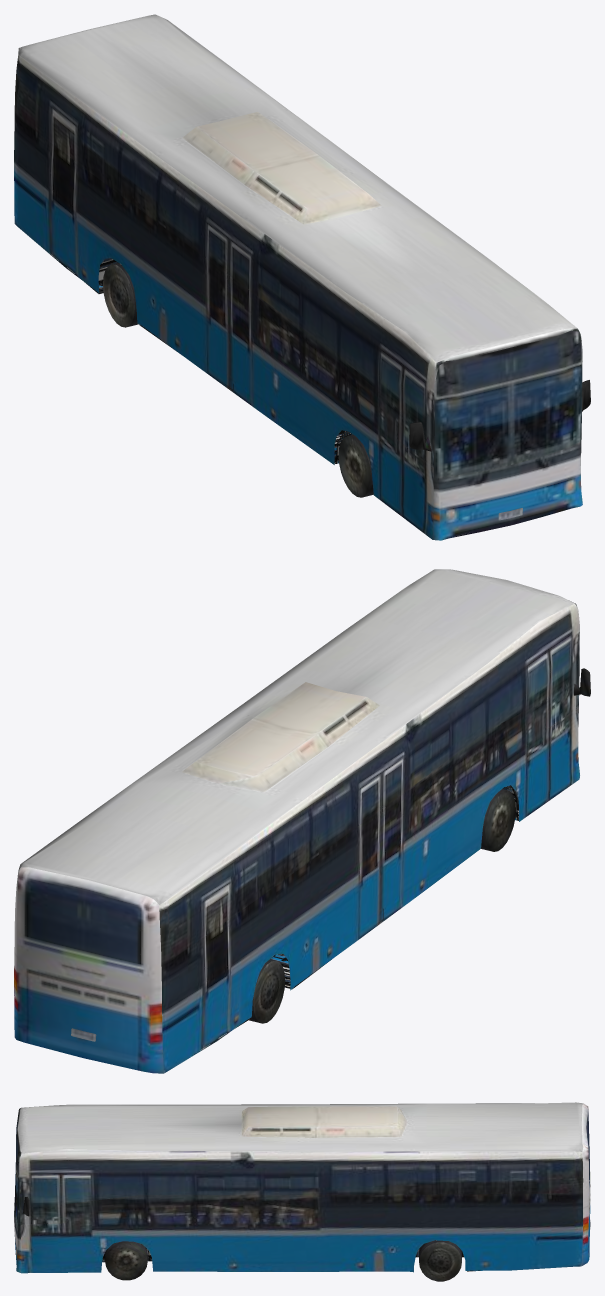
The model's file is bus2.obj.
3 views of the same model, one above another, from view 1: azimuth 30°, elevation 25°; view 2: azimuth 150°, elevation 25°; view 3: azimuth 270°, elevation 25° (orthographic). The views are drawn at different scales.
Parts seen in each view (by area): view 1: lwpg032; view 2: lwpg032; view 3: lwpg032.
Boxes of the visible parts, x1,y1,x2,y2 form: lwpg032: (14,14,590,540); lwpg032: (14,569,590,1073); lwpg032: (14,1102,590,1281).
Bounding box in the file's own units: 3.01 × 3.36 × 12.4.
Materials: 1 (1 with a texture image).
